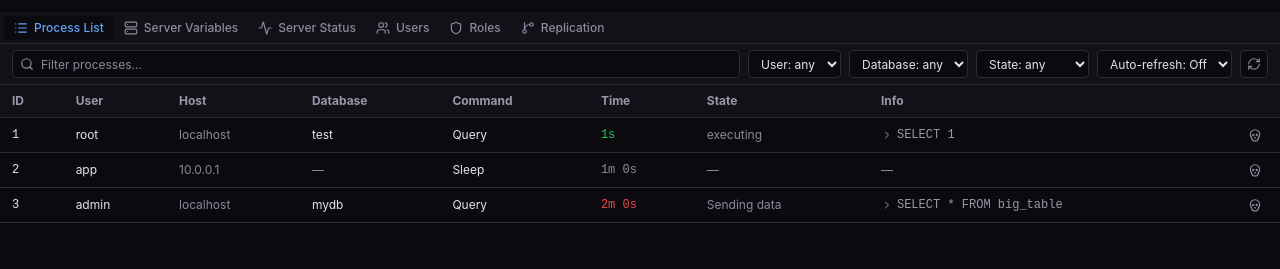
Test: ProcessListTab › shows error on kill failure
Click the button titled "Kill process": (1255, 135) x1=1244 y1=124 x2=1266 y2=146
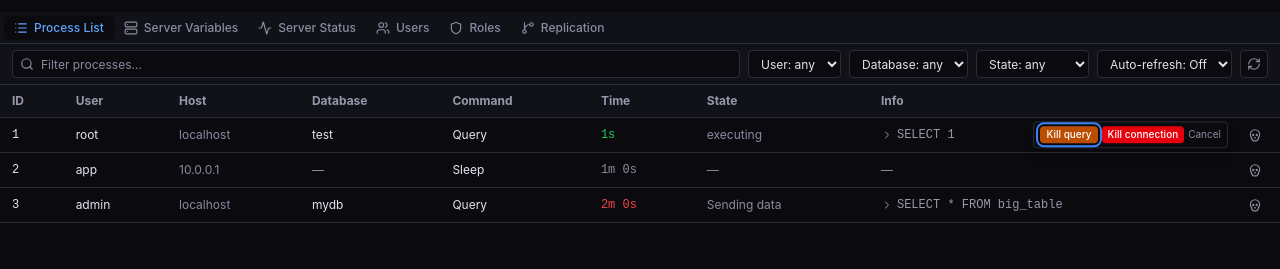
Click the button "Kill connection": (1143, 135) x1=1102 y1=126 x2=1184 y2=144
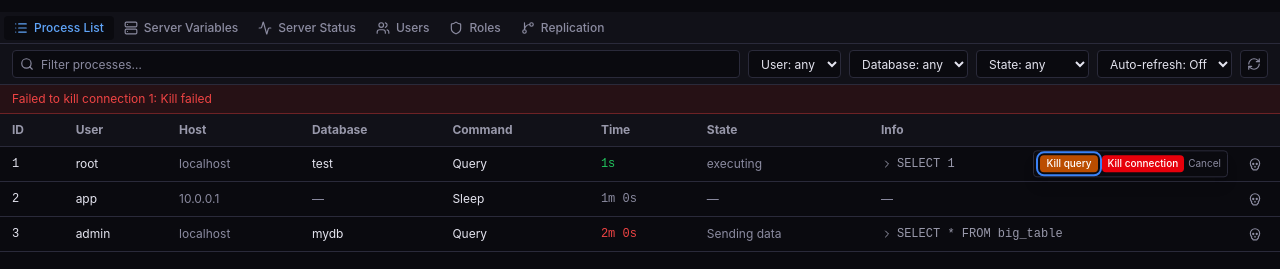
Check: the text "Failed to kill connection 1: Kill failed" is shown, box x1=0 y1=85 x2=1279 y2=114
